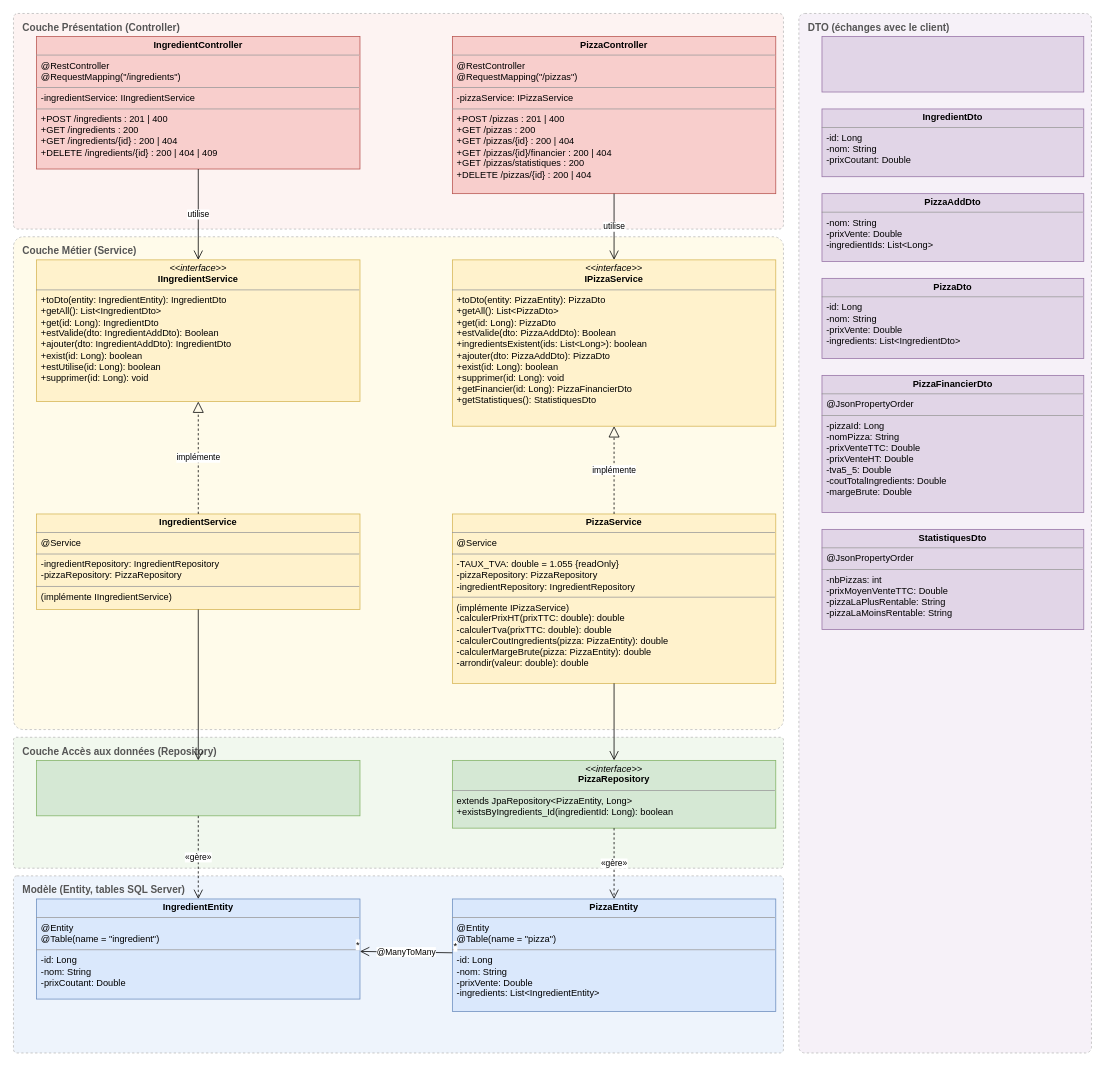
The diagram is 1105 pixels wide and 1066 high, and some of its shapes have lost their labels. Here are the shapes that lost their labels. From the top down, the centre of each, then its label:
the point at 952,64: IngredientAddDto -nom: String -prixCoutant: Double
the point at 198,788: <<interface>> IngredientRepository extends JpaRepository<IngredientEntity, Long>
